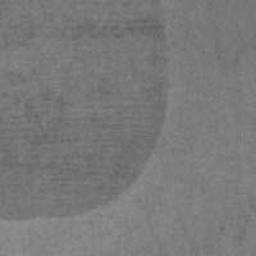Oil spot: (0, 0, 169, 223)
